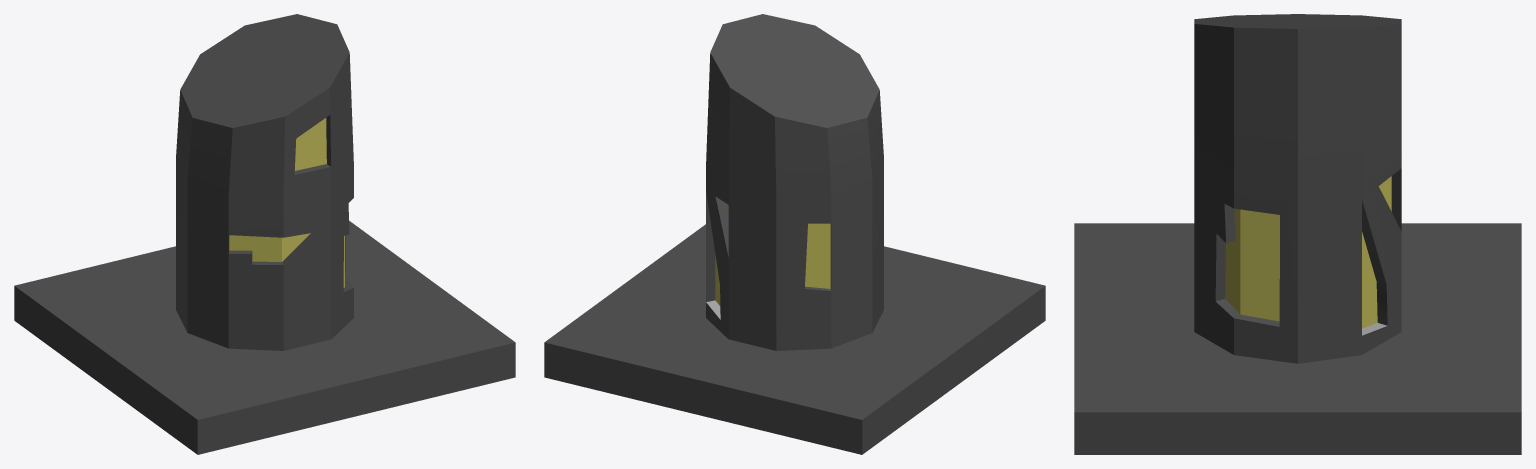
File: remains02.fbx
3 renders of one model, left to right at view 1: azimuth 30°, elevation 25°; view 2: azimuth 150°, elevation 25°; view 3: azimuth 270°, elevation 25°, orthographic. The views are drawn at different scales.
Visible parts, largest first — view 1: pCube1, pCylinder1; view 2: pCylinder1, pCube1; view 3: pCube1, pCylinder1.
Part boxes in pixels (x1,y1,x2,y2): pCube1: (14, 220, 515, 454); pCylinder1: (176, 14, 353, 350); pCylinder1: (706, 14, 883, 350); pCube1: (544, 224, 1045, 454); pCube1: (1074, 223, 1521, 454); pCylinder1: (1194, 14, 1401, 363).
Size of the model in its own units: 4.1 by 3.79 by 4.1.
